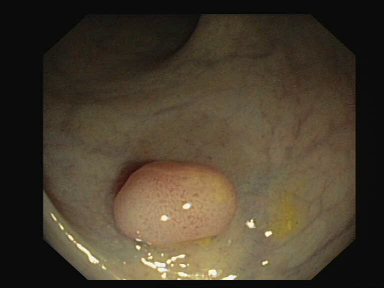polyp: (94, 139, 258, 262)
